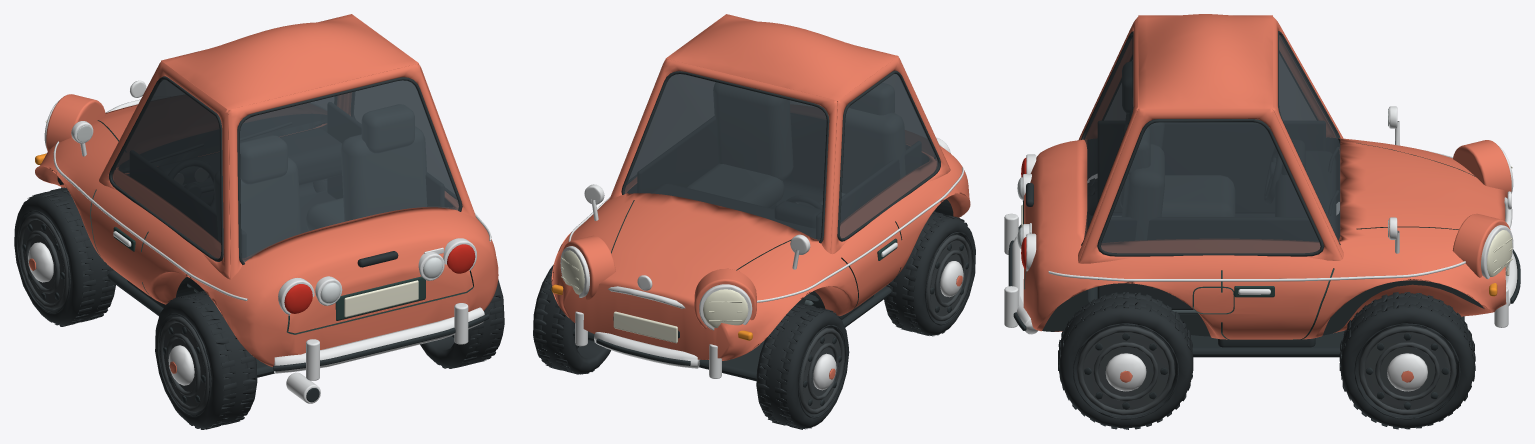
The model's file is bubble_lod1.fbx.
3 views of the same model, side by side, from view 1: azimuth 30°, elevation 25°; view 2: azimuth 150°, elevation 25°; view 3: azimuth 270°, elevation 25° (orthographic). The views are drawn at different scales.
Visible parts, largest first — view 1: Body, Wheel_RL_Mesh, Wheel_FL_Mesh, Wheel_RR_Mesh; view 2: Body, Wheel_FL_Mesh, Wheel_RL_Mesh, Wheel_FR_Mesh; view 3: Body, Wheel_FR_Mesh, Wheel_RR_Mesh.
Boxes of the visible parts, x1,y1,x2,y2 form: Body: (35, 14, 498, 403); Wheel_RL_Mesh: (155, 290, 257, 429); Wheel_FL_Mesh: (14, 187, 115, 326); Wheel_RR_Mesh: (420, 279, 504, 368); Body: (551, 14, 970, 381); Wheel_FL_Mesh: (756, 303, 849, 429); Wheel_RL_Mesh: (884, 211, 975, 336); Wheel_FR_Mesh: (533, 264, 610, 374); Body: (1004, 14, 1520, 357); Wheel_FR_Mesh: (1339, 292, 1475, 429); Wheel_RR_Mesh: (1058, 292, 1193, 429).
Size of the model in its own units: 178 by 178 by 253.
